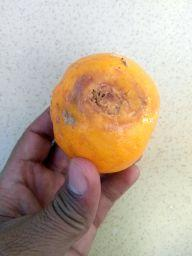Unripe: (51, 52, 160, 173)
